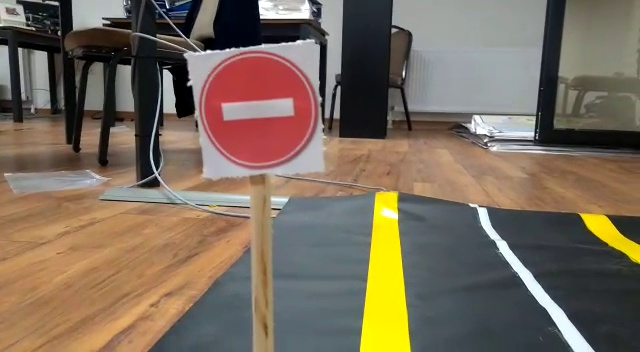girisi_olmayan_yol: (188, 47, 319, 172)
